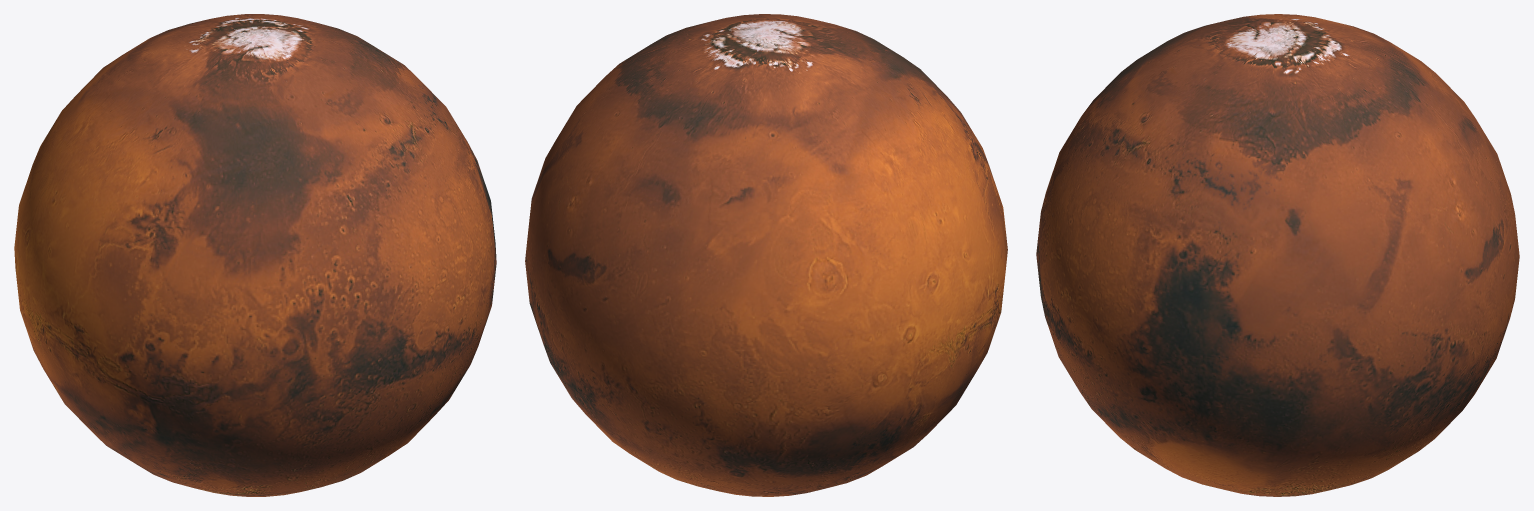
File: Mars.fbx
3 views of the same model, side by side, from view 1: azimuth 30°, elevation 25°; view 2: azimuth 150°, elevation 25°; view 3: azimuth 270°, elevation 25° (orthographic).
Visible parts, largest first — view 1: sphere01_1; view 2: sphere01_1; view 3: sphere01_1.
Part boxes in pixels (<box>): sphere01_1: <box>14,14,496,496</box>; sphere01_1: <box>525,14,1007,496</box>; sphere01_1: <box>1036,14,1519,496</box>.
Size of the model in its own units: 3.82 by 3.82 by 3.82.
